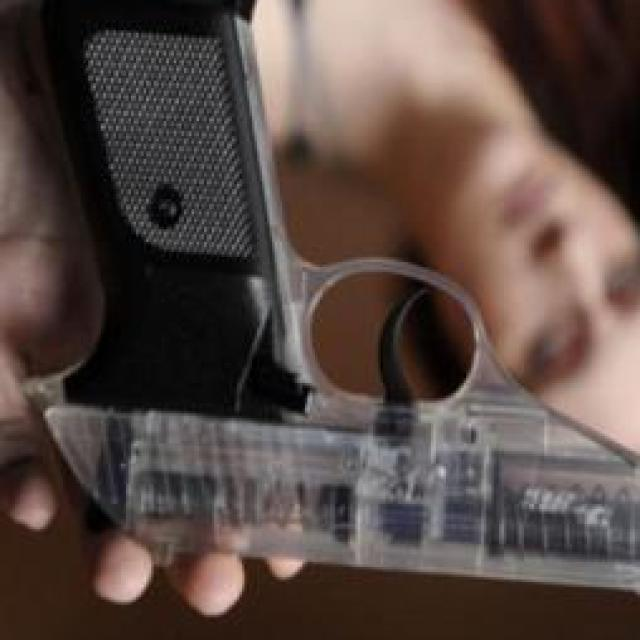pistol: (15, 0, 640, 600)
